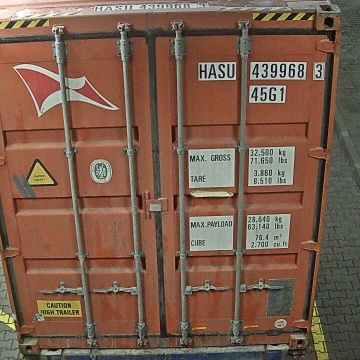serial_id: (198, 62, 323, 79)
